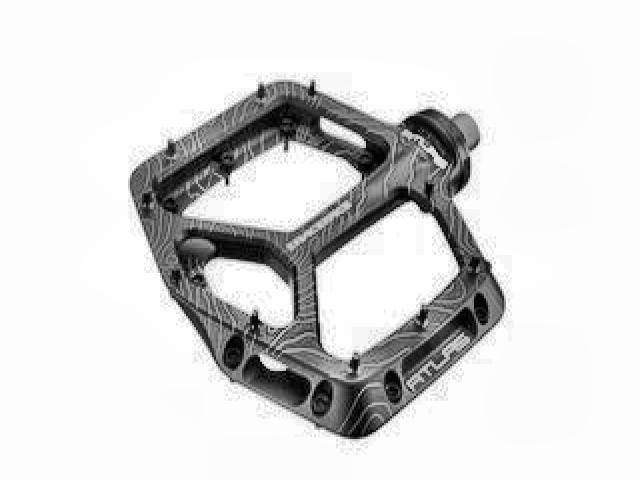pedal: (125, 70, 509, 448)
